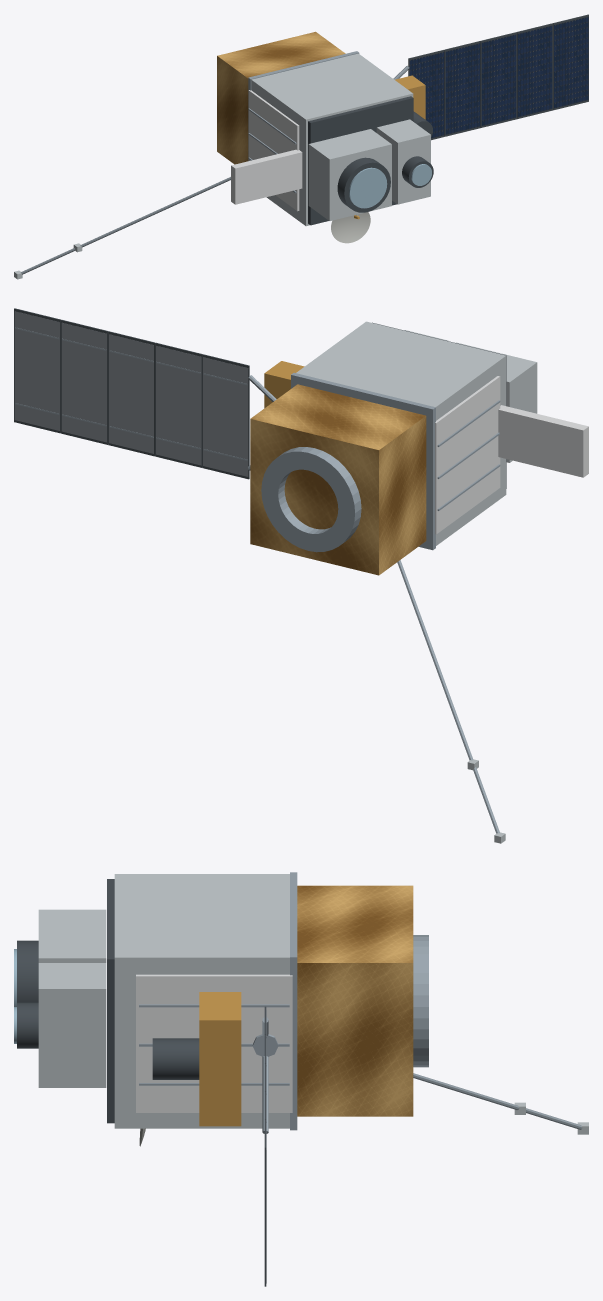
The model's file is goes-r.glb.
3 renders of one model, top to bottom at view 1: azimuth 30°, elevation 25°; view 2: azimuth 150°, elevation 25°; view 3: azimuth 270°, elevation 25°, orthographic. The views are drawn at different scales.
Visible parts, largest first — view 1: Solar cell panel (×5), Payload module, Imager bench (×2), Service module, Antenna wing, Earth-facing deck, Radiator face, Solar panel frame (×4), Optical aperture (×2), Optical baffle (×2), Communications reflector, Magnetometer boom (+2 smaller); view 2: Rear array substrate (×5), Service module, Payload module, Radiator face, Launch adapter ring, Antenna wing, Module interface, Imager bench, Magnetometer boom, Sun pointing platform; view 3: Service module, Payload module, Radiator face, Imager bench (×2), Sun pointing platform, Optical baffle (×2), Launch adapter ring, Solar telescope, Earth-facing deck, Module interface, Magnetometer boom.
Part boxes in pixels (left/top/right/bottom): Solar cell panel (×5): left=409, top=17, right=588, bottom=138; Payload module: left=251, top=53, right=413, bottom=226; Imager bench (×2): left=308, top=119, right=430, bottom=220; Service module: left=217, top=31, right=345, bottom=164; Antenna wing: left=231, top=149, right=302, bottom=204; Earth-facing deck: left=308, top=96, right=413, bottom=225; Radiator face: left=248, top=90, right=299, bottom=211; Solar panel frame (×4): left=444, top=14, right=588, bottom=136; Optical aperture (×2): left=349, top=164, right=431, bottom=208; Optical baffle (×2): left=337, top=156, right=433, bottom=212; Communications reflector: left=331, top=212, right=370, bottom=243; Magnetometer boom: left=20, top=177, right=230, bottom=274; Rear array substrate (×5): left=14, top=311, right=248, bottom=476; Service module: left=250, top=384, right=426, bottom=575; Payload module: left=296, top=321, right=506, bottom=545; Radiator face: left=435, top=376, right=500, bottom=534; Launch adapter ring: left=261, top=447, right=361, bottom=552; Antenna wing: left=498, top=405, right=588, bottom=477; Module interface: left=291, top=372, right=435, bottom=550; Imager bench: left=455, top=342, right=537, bottom=462; Magnetometer boom: left=397, top=560, right=499, bottom=833; Sun pointing platform: left=264, top=361, right=304, bottom=408; Service module: left=297, top=885, right=413, bottom=1116; Payload module: left=114, top=874, right=289, bottom=1128; Radiator face: left=136, top=974, right=292, bottom=1112; Imager bench (×2): left=38, top=909, right=106, bottom=1087; Sun pointing platform: left=199, top=992, right=241, bottom=1126; Optical baffle (×2): left=17, top=940, right=38, bottom=1048; Launch adapter ring: left=413, top=935, right=428, bottom=1067; Solar telescope: left=152, top=1038, right=199, bottom=1079; Earth-facing deck: left=107, top=879, right=114, bottom=1123; Module interface: left=290, top=872, right=297, bottom=1130; Magnetometer boom: left=413, top=1073, right=582, bottom=1129.
Size of the model in its own units: 17.23 by 8.03 by 11.3.
10 materials, 2 textured.
